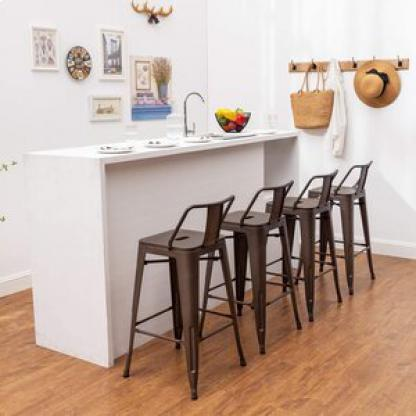chair: (124, 191, 233, 391), (236, 172, 296, 351), (292, 160, 337, 342), (334, 157, 374, 301)
